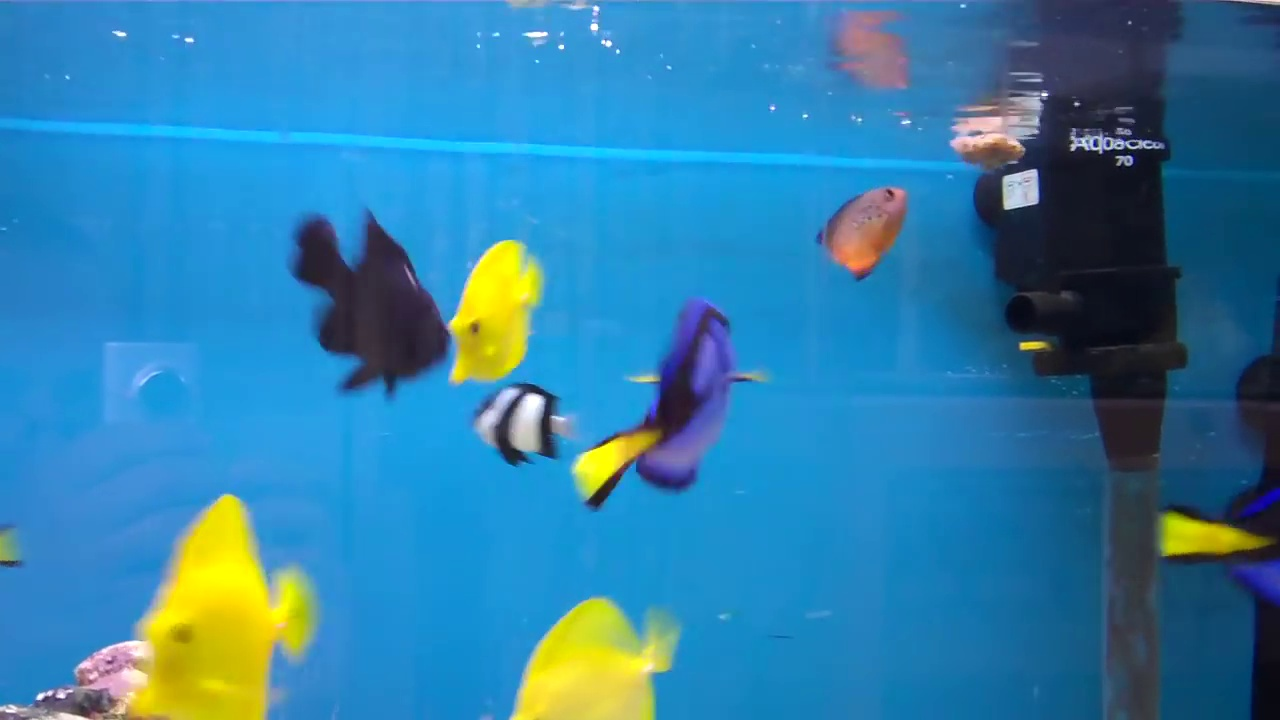blue tang surgeonfish: (569, 296, 742, 499)
saddle butterfly fish: (109, 506, 316, 720), (451, 237, 536, 377)
